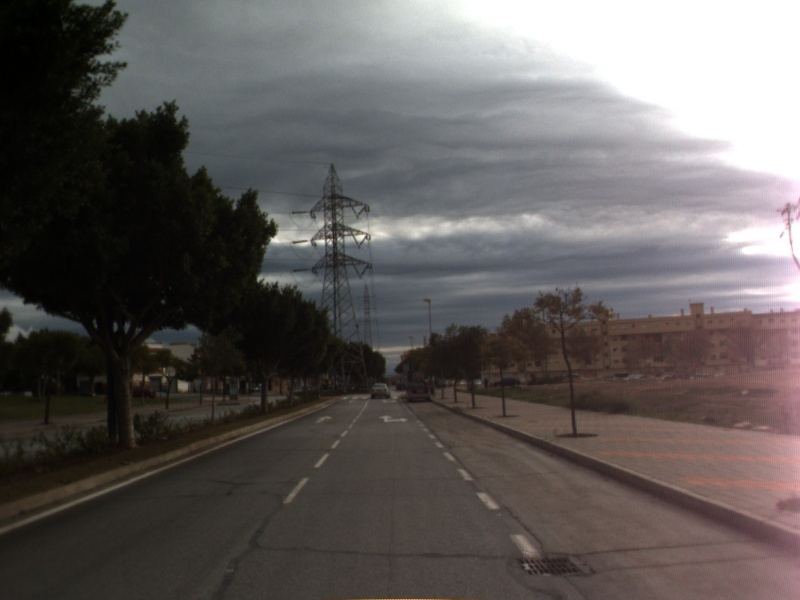STRAIGHT: (313, 413, 335, 425)
STRAIGHT_RIGHT: (376, 413, 410, 425)
